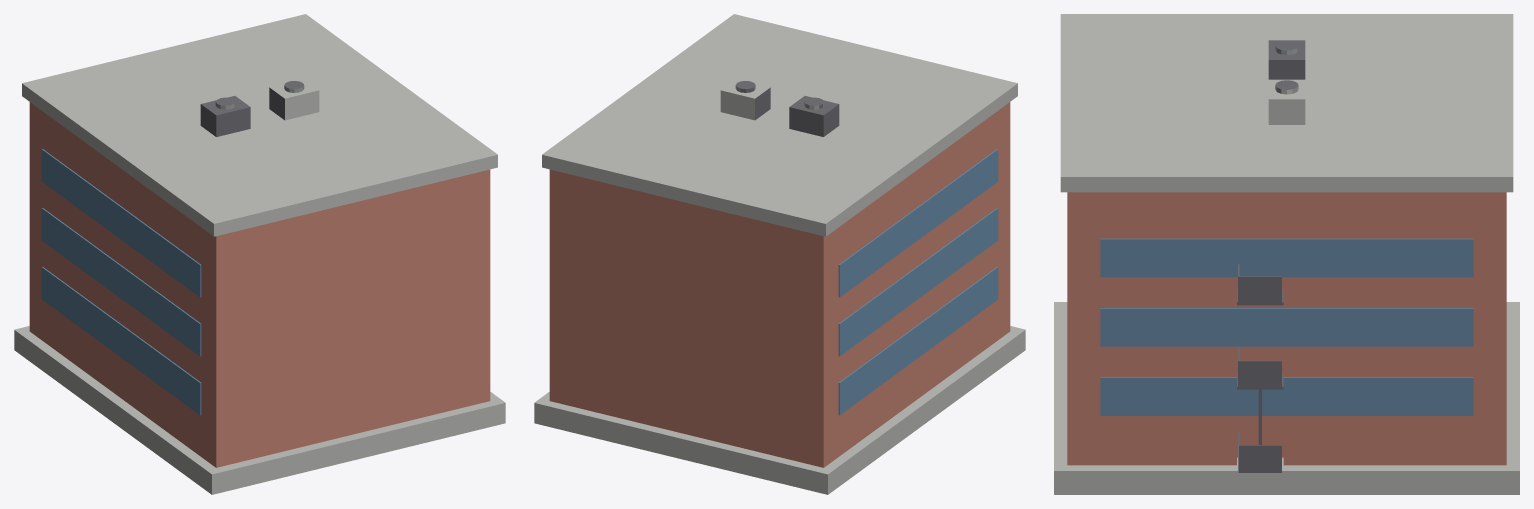
Rendered from apartment_walkup_3s.glb.
3 views of the same model, side by side, from view 1: azimuth 30°, elevation 25°; view 2: azimuth 150°, elevation 25°; view 3: azimuth 270°, elevation 25° (orthographic). The views are drawn at different scales.
Visible parts, largest first — view 1: apartment_walkup_3s; view 2: apartment_walkup_3s; view 3: apartment_walkup_3s.
Part boxes in pixels (x1,y1,x2,y2): apartment_walkup_3s: [14, 14, 505, 494]; apartment_walkup_3s: [534, 14, 1025, 494]; apartment_walkup_3s: [1054, 14, 1519, 494].
Bounding box in the file's own units: 12.58 × 11.45 × 14.
